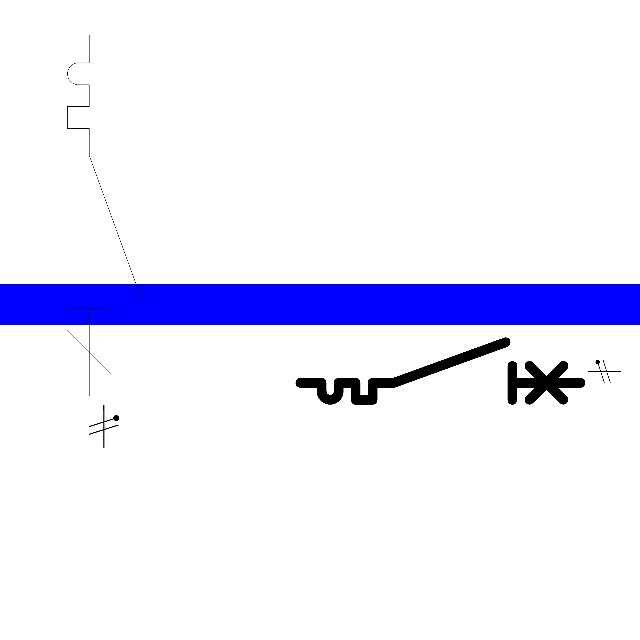interruptor_termomagnetico: (58, 26, 150, 405), (293, 335, 587, 407)
